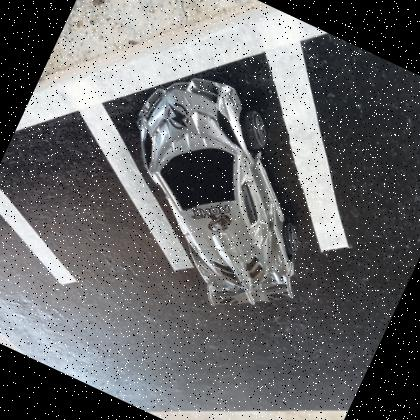Car: (136, 75, 298, 305)
